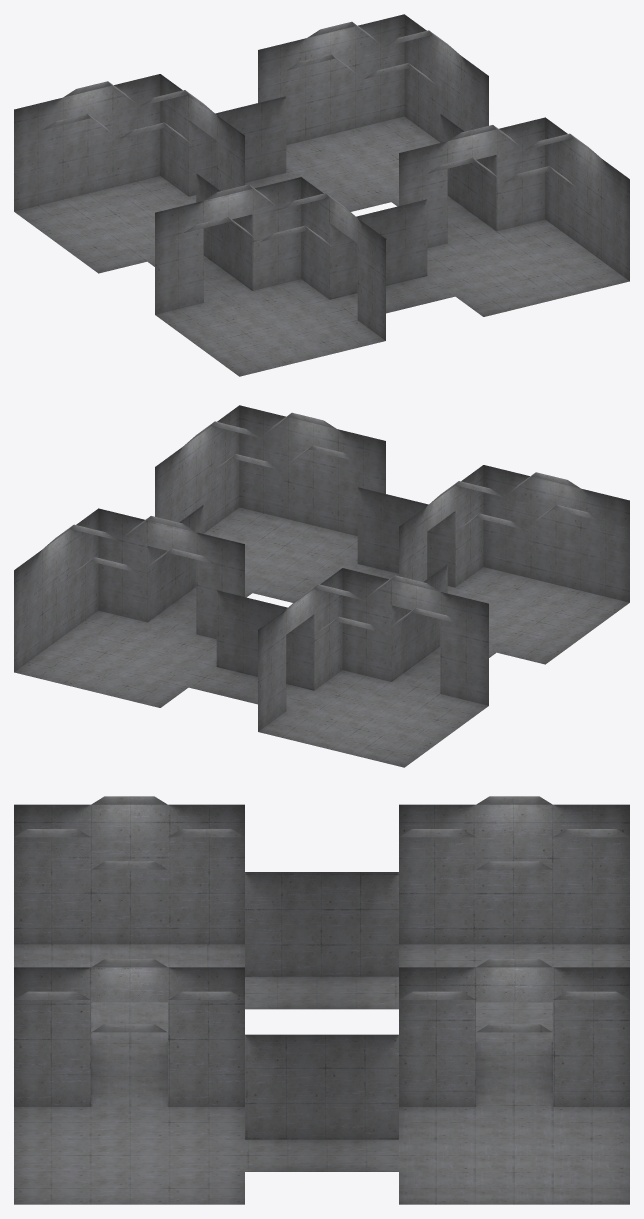
The model's file is bunker_textured.glb.
The picture shows the model from 3 angles, top to bottom: view 1: azimuth 30°, elevation 25°; view 2: azimuth 150°, elevation 25°; view 3: azimuth 270°, elevation 25°; orthographic projection. The views are drawn at different scales.
Visible parts, largest first — view 1: Cube.005, Cube.007, Cube.004, Cube.006; view 2: Cube.007, Cube.005, Cube.006, Cube.004; view 3: Cube.004, Cube.006, Cube.007, Cube.005.
Part boxes in pixels (x1,y1,x2,y2): Cube.005: [155, 177, 454, 376]; Cube.007: [188, 14, 488, 211]; Cube.004: [391, 114, 629, 316]; Cube.006: [14, 74, 252, 302]; Cube.007: [14, 508, 314, 710]; Cube.005: [350, 465, 629, 664]; Cube.006: [258, 564, 495, 767]; Cube.004: [147, 405, 385, 634]; Cube.004: [14, 959, 398, 1204]; Cube.006: [245, 796, 629, 1041]; Cube.007: [399, 959, 629, 1204]; Cube.005: [14, 796, 244, 1106].
Bounding box in the file's own units: 16 × 4.4 × 16.
1 material, 1 textured.
